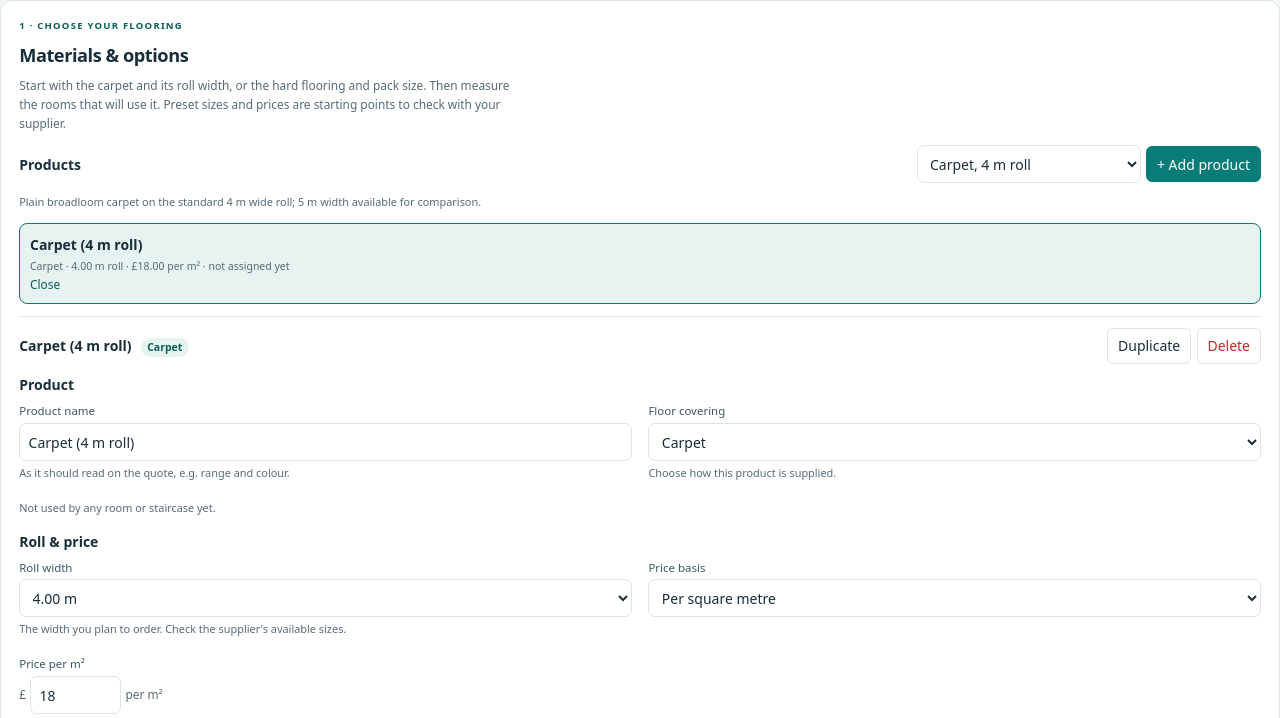
it: MaterialsPanel › uses one named native button per product to open and close its editor
expect the field labelled "Product name" is shown: met, box [19, 423, 632, 461]
Click the button with aria-label "Close Carpet (4 m roll)" at (86, 244), box [19, 224, 1261, 304]
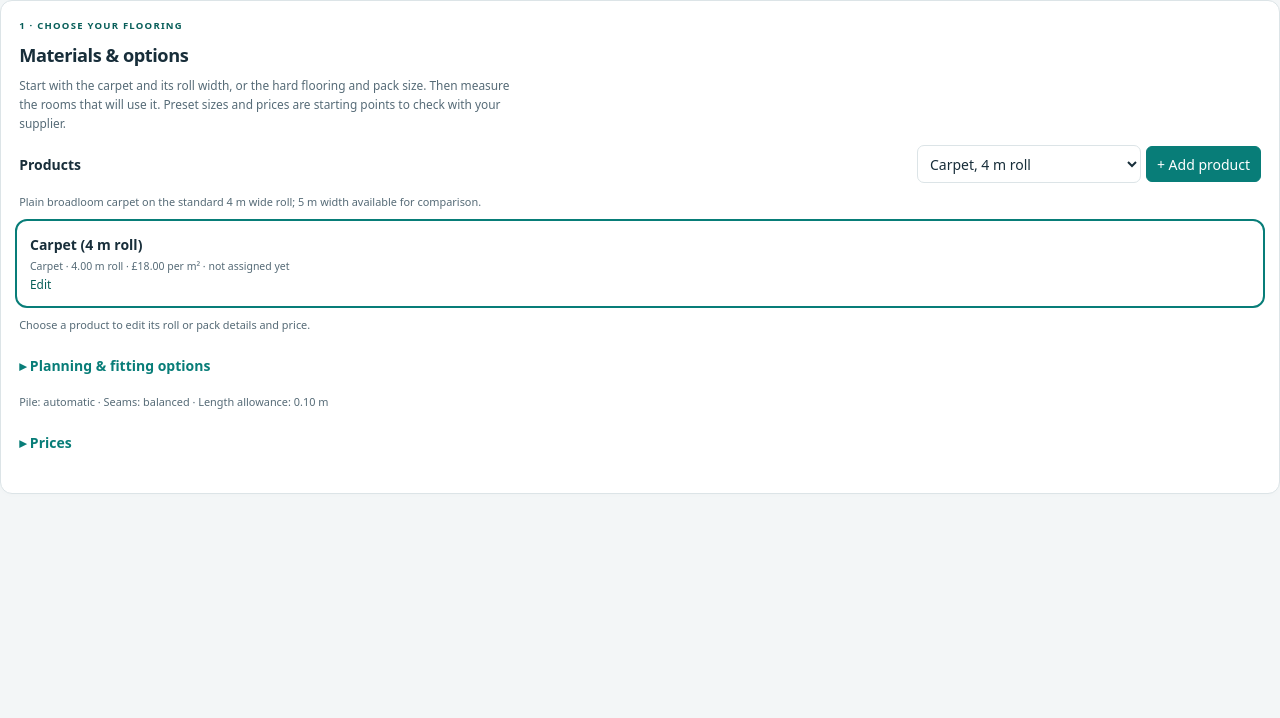
expect the button with aria-label "Edit Carpet (4 m roll)" is collapsed: met
Click the button with aria-label "Edit Carpet (4 m roll)" at (86, 244), box [19, 224, 1261, 304]
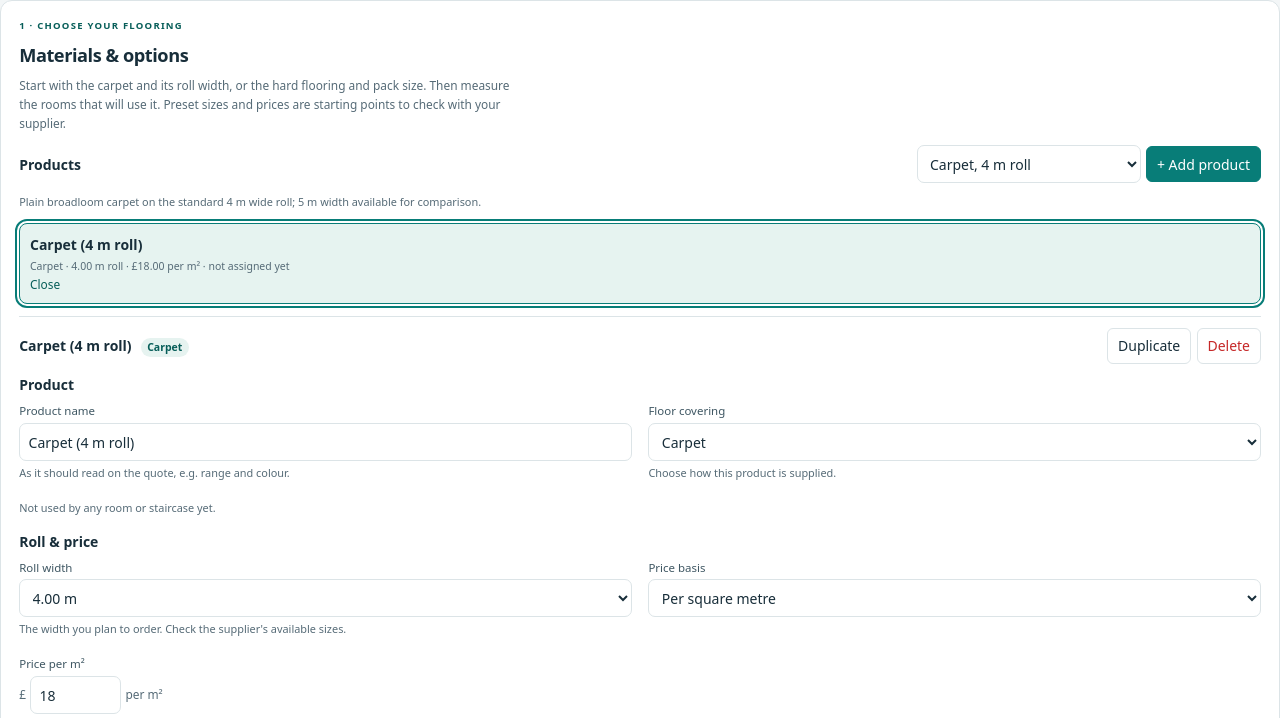
expect the button with aria-label "Close Carpet (4 m roll)" is expanded: met
expect the field labelled "Product name" is shown: met, box [19, 423, 632, 461]
Click the button with aria-label "Close Carpet (4 m roll)" at (86, 244), box [19, 224, 1261, 304]
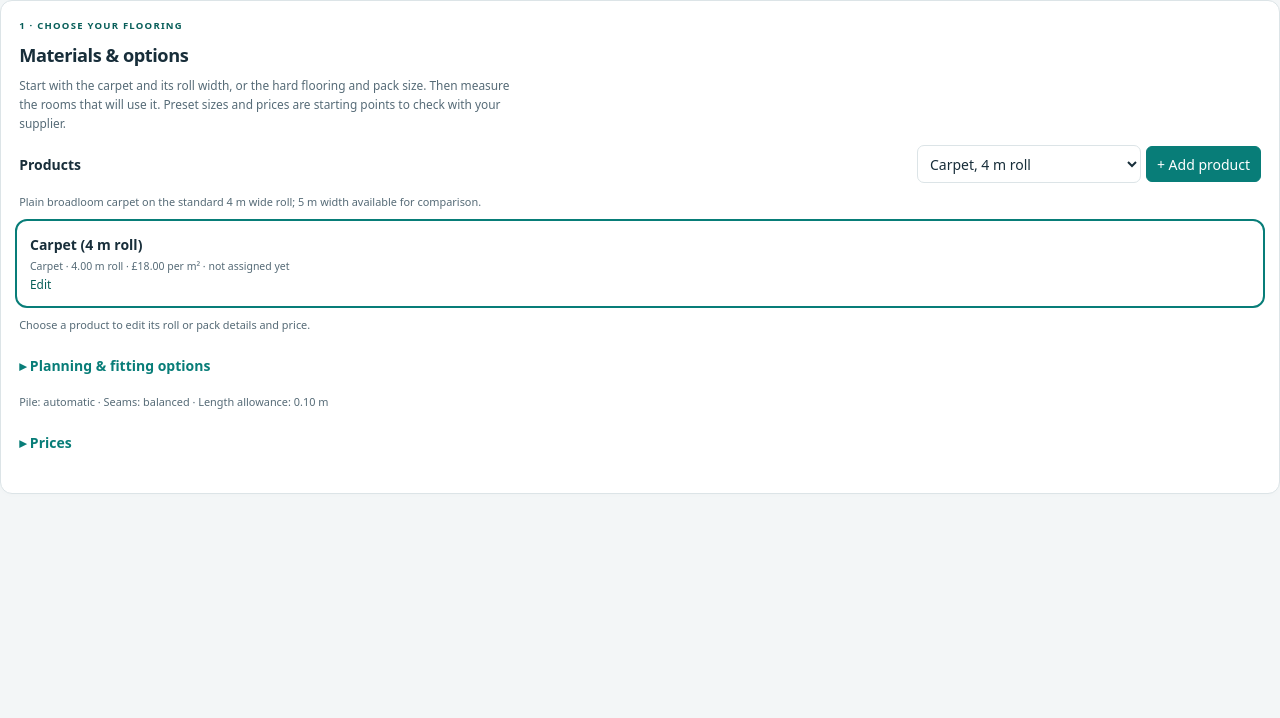
expect the text labelled "Product name" is gone: met
